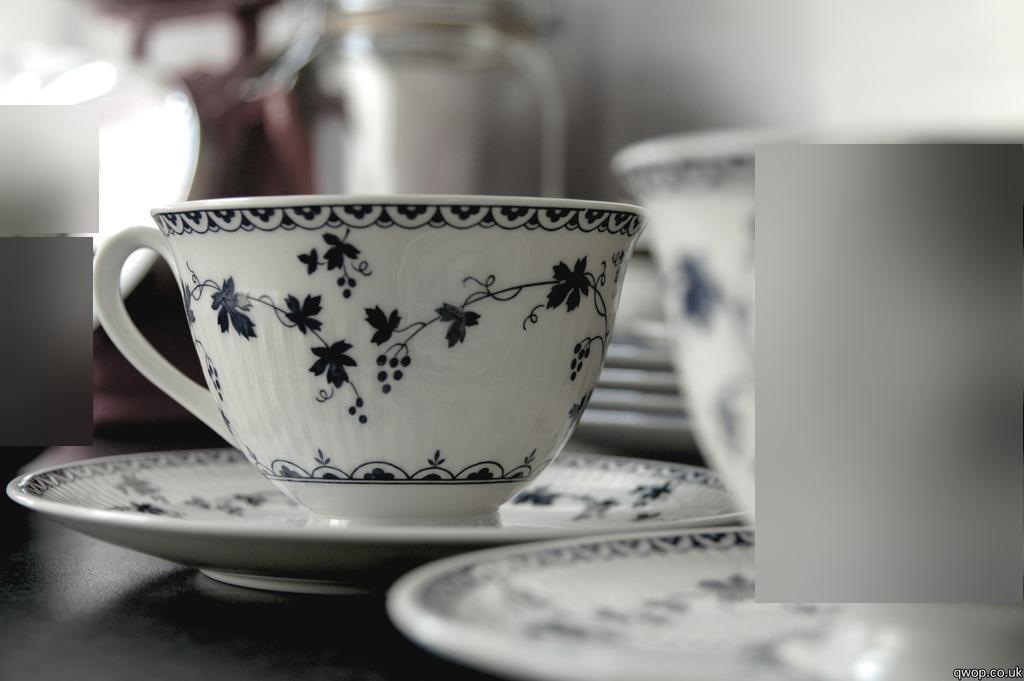cup-handle: (91, 190, 659, 512)
